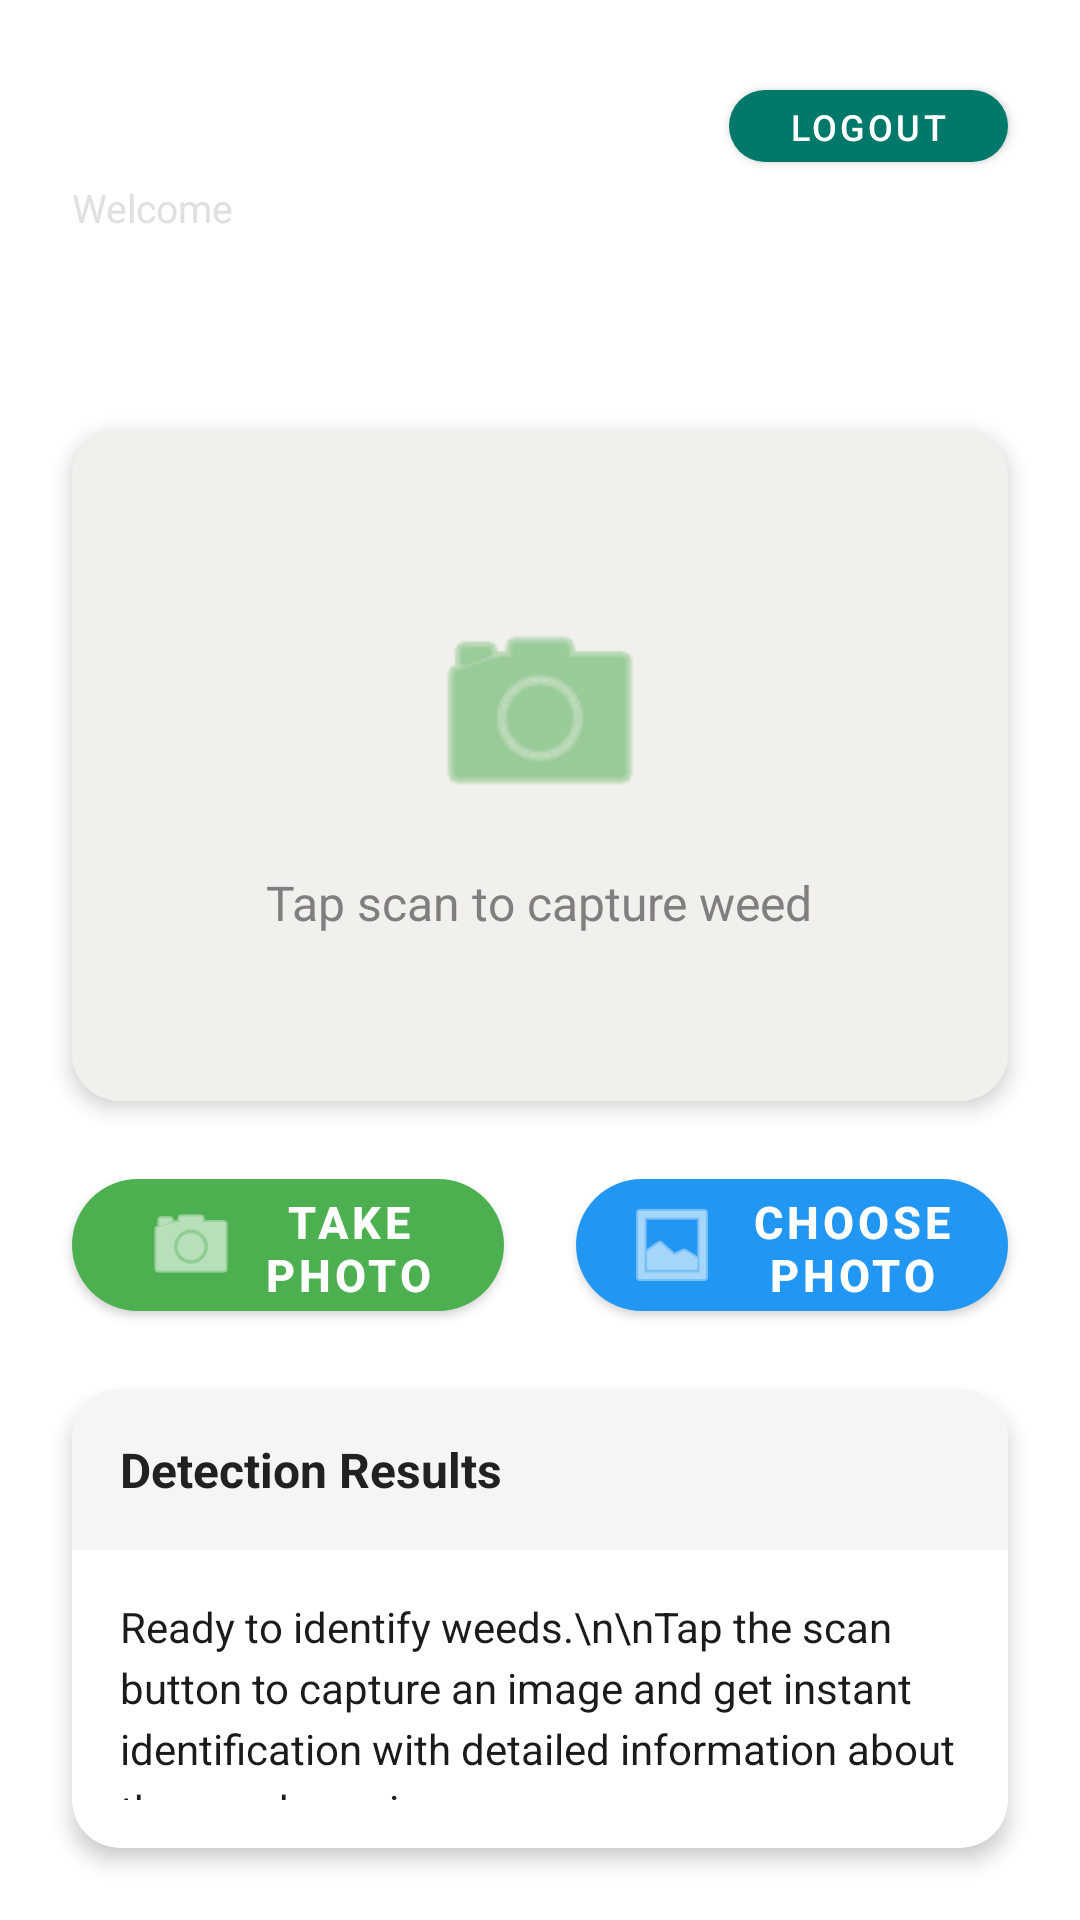

Icon click points for this 1080*1920 phone screenshot, format [x,y]:
Camera icon: [540,710]
